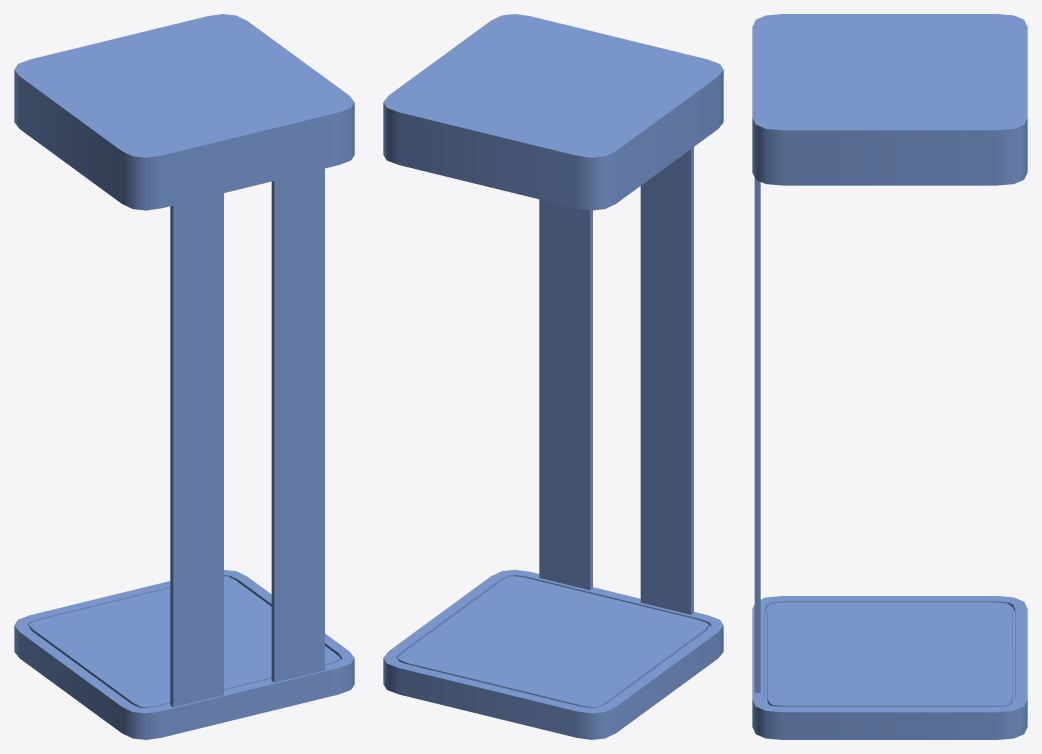
The model's file is rcFoodTeleporter.FBX.
3 renders of one model, left to right at view 1: azimuth 30°, elevation 25°; view 2: azimuth 150°, elevation 25°; view 3: azimuth 270°, elevation 25°, orthographic. The views are drawn at different scales.
Parts seen in each view (by area): view 1: foodTeleporter; view 2: foodTeleporter; view 3: foodTeleporter.
Part boxes in pixels (bbox=[...]): foodTeleporter: bbox=[14, 14, 354, 739]; foodTeleporter: bbox=[383, 14, 723, 739]; foodTeleporter: bbox=[752, 14, 1027, 739].
Bounding box in the file's own units: 0.45 × 1.1 × 0.45.
